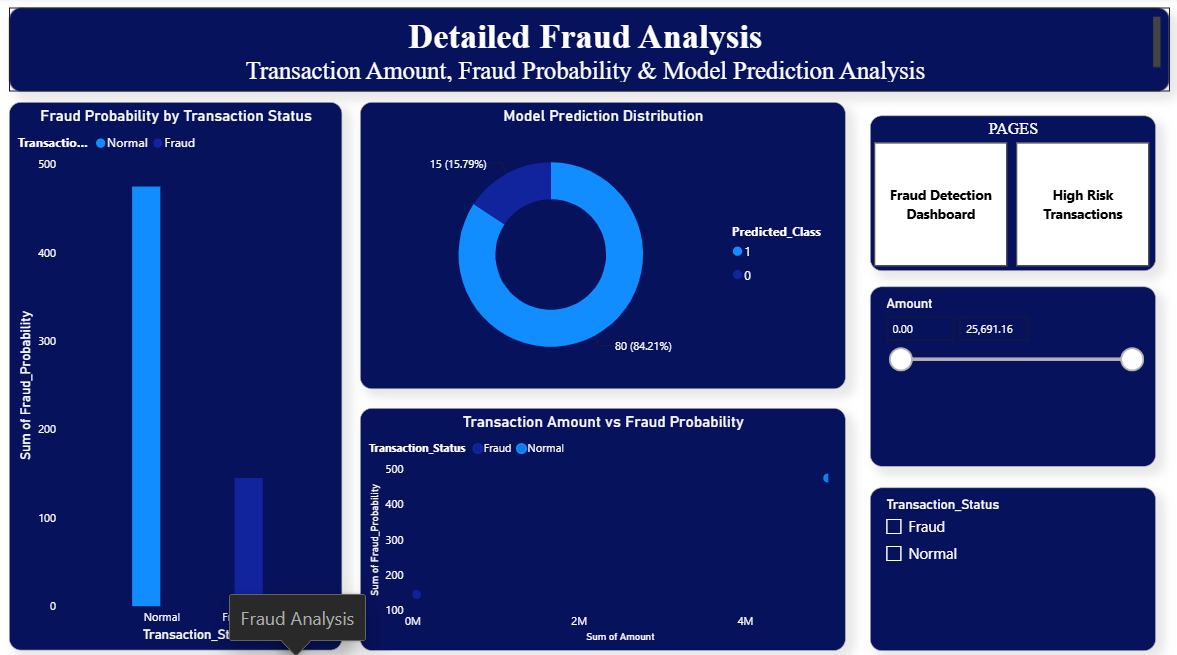

Layout of this report page (visuals, bound fields, positions):
{"tool":"powerbi","page":{"name":"Fraud Analysis","canvas":[1280,720],"ordinal":1},"visuals":[{"type":"textbox","box":[9.9,11.6,1258.9,91.1],"z":0},{"type":"clusteredColumnChart","title":"Fraud Probability by Transaction Status","fields":{"Category":["fraud_predictions.Transaction_Status"],"Y":["Sum(fraud_predictions.Fraud_Probability)"],"Series":["fraud_predictions.Transaction_Status"]},"box":[9.9,114.3,361.1,594.7],"z":1000},{"type":"scatterChart","title":"Transaction Amount vs Fraud Probability","fields":{"X":["Sum(fraud_predictions.Amount)"],"Y":["Sum(fraud_predictions.Fraud_Probability)"],"Series":["fraud_predictions.Transaction_Status"]},"box":[390.9,445.6,526.8,263.4],"z":2000},{"type":"donutChart","title":"Model Prediction Distribution","fields":{"Category":["fraud_predictions.Predicted_Class"],"Y":["Sum(fraud_predictions.Class)"]},"box":[390.9,114.3,526.8,311.4],"z":3000},{"type":"slicer","fields":{"Values":["fraud_predictions.Transaction_Status"]},"box":[944.2,531.7,309.8,177.2],"z":4000},{"type":"slicer","fields":{"Values":["fraud_predictions.Amount"]},"box":[944.2,314.7,309.8,195.5],"z":5000},{"type":"pageNavigator","title":"PAGES","box":[944.2,129.2,309.8,169],"z":5001}]}

Visuals, with their boxes in screenshot pixels (x1, y1, x2, y2):
textbox: Rect(0, 2, 1173, 86)
"Fraud Probability by Transaction Status" clusteredColumnChart: Rect(0, 97, 336, 651)
"Transaction Amount vs Fraud Probability" scatterChart: Rect(355, 406, 846, 651)
"Model Prediction Distribution" donutChart: Rect(355, 97, 846, 387)
slicer - fraud_predictions.Transaction_Status: Rect(870, 486, 1159, 651)
slicer - fraud_predictions.Amount: Rect(870, 284, 1159, 466)
"PAGES" pageNavigator: Rect(870, 111, 1159, 269)
